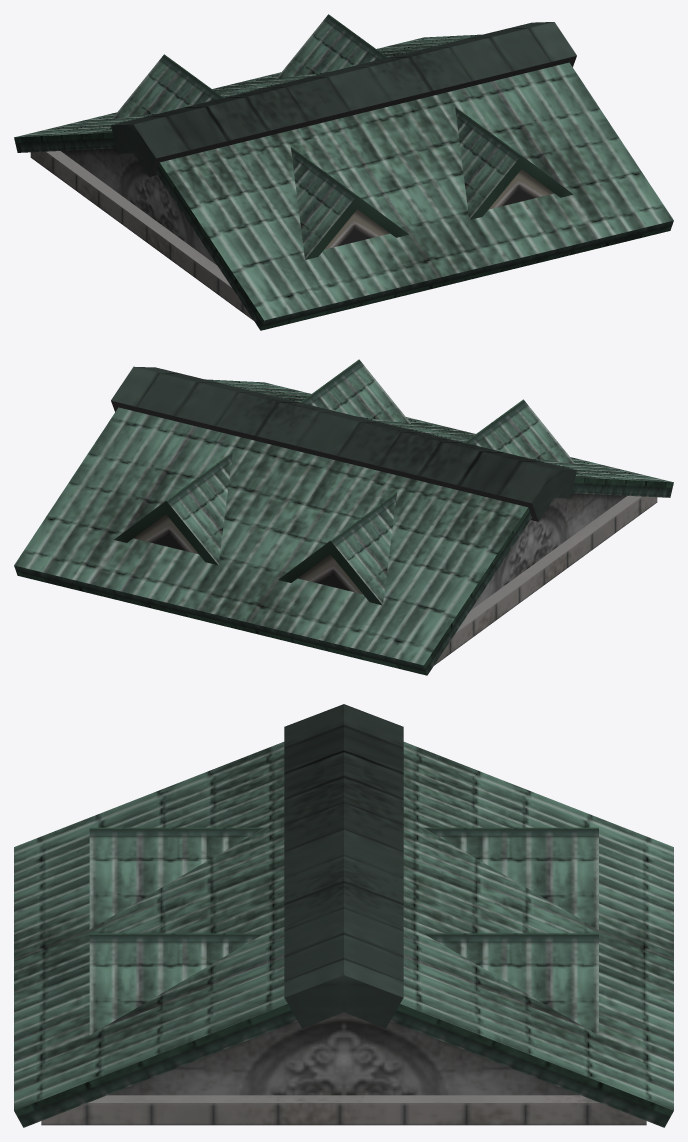
Rendered from Building03_roof4.FBX.
3 renders of one model, top to bottom at view 1: azimuth 30°, elevation 25°; view 2: azimuth 150°, elevation 25°; view 3: azimuth 270°, elevation 25°, orthographic. The views are drawn at different scales.
Parts seen in each view (by area): view 1: roof4; view 2: roof4; view 3: roof4.
Boxes of the visible parts, <box> form: roof4: <box>14,14,673,330</box>; roof4: <box>14,359,673,675</box>; roof4: <box>14,704,673,1127</box>.
Bounding box in the file's own units: 9.28 × 2.52 × 9.55.
